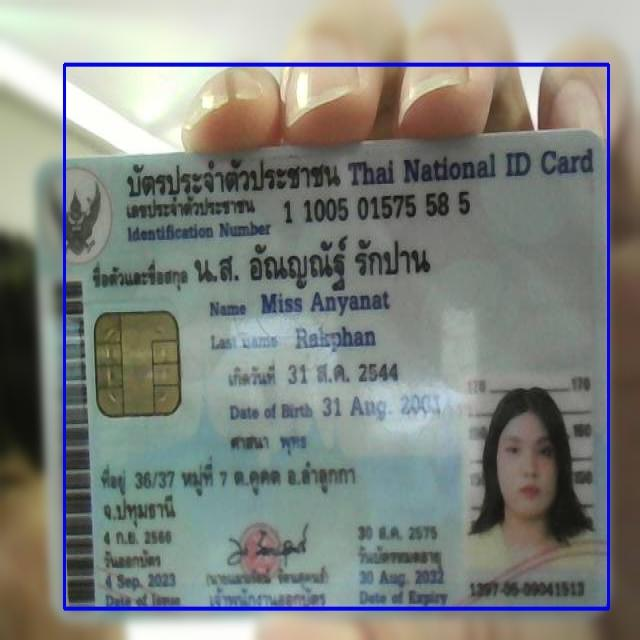Address_th: (94, 451, 360, 532)
Date_of_Birth: (318, 390, 443, 424)
Date_of_Expiry: (355, 564, 451, 590)
Date_of_Issue: (102, 568, 184, 591)
First_Name: (257, 285, 393, 320)
ID_Number: (276, 188, 478, 228)
Image: (464, 377, 595, 578)
Last_Name: (292, 322, 379, 357)
Thai_Name: (184, 234, 448, 292)
